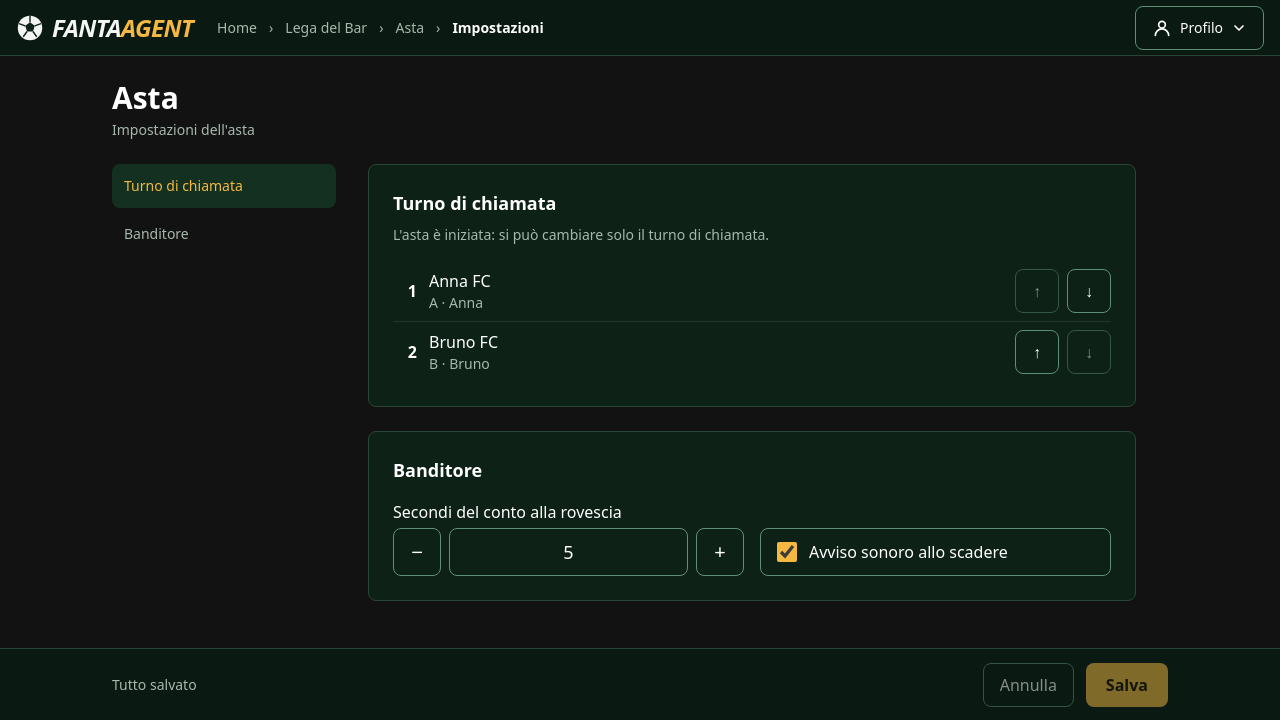
AuctionSettingsRoute › se una delle due scritture fallisce, la barra dice quale
Click the button named "Sposta giù Anna FC".
click(1089, 291)  # box x1=1067 y1=269 x2=1111 y2=313
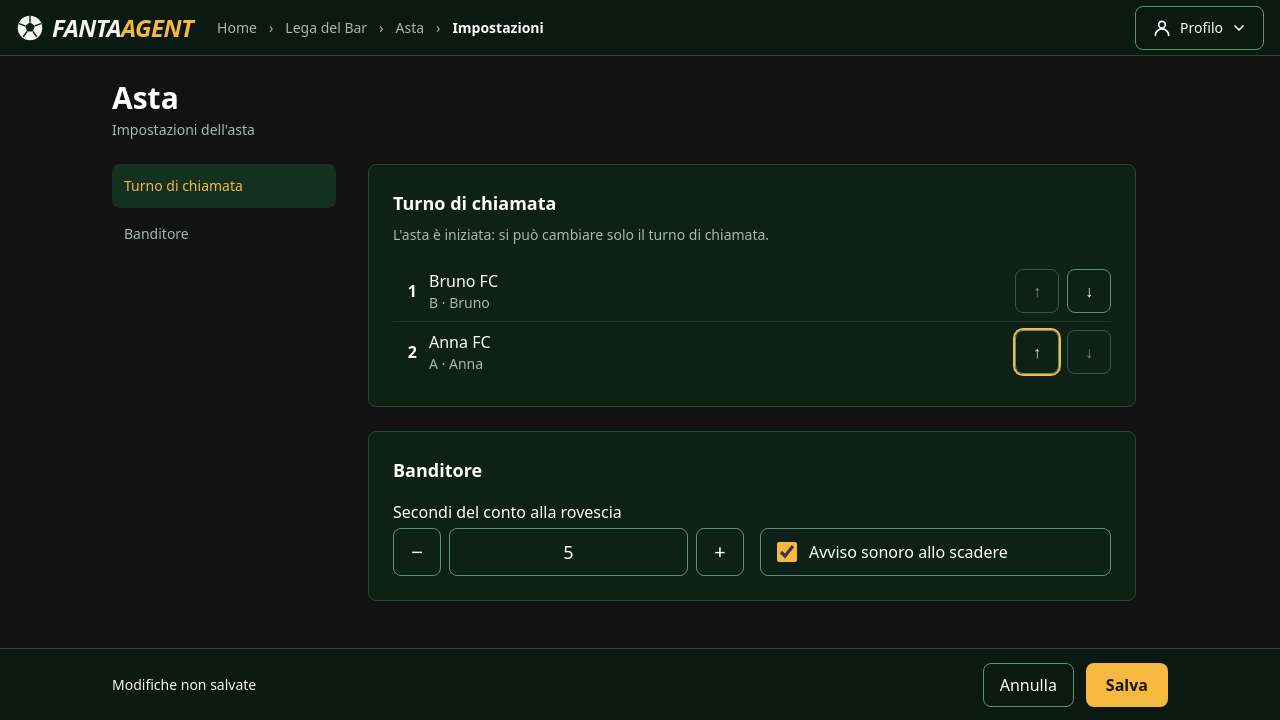
Click the button named "Un secondo in più".
click(720, 552)  # box x1=696 y1=528 x2=744 y2=576
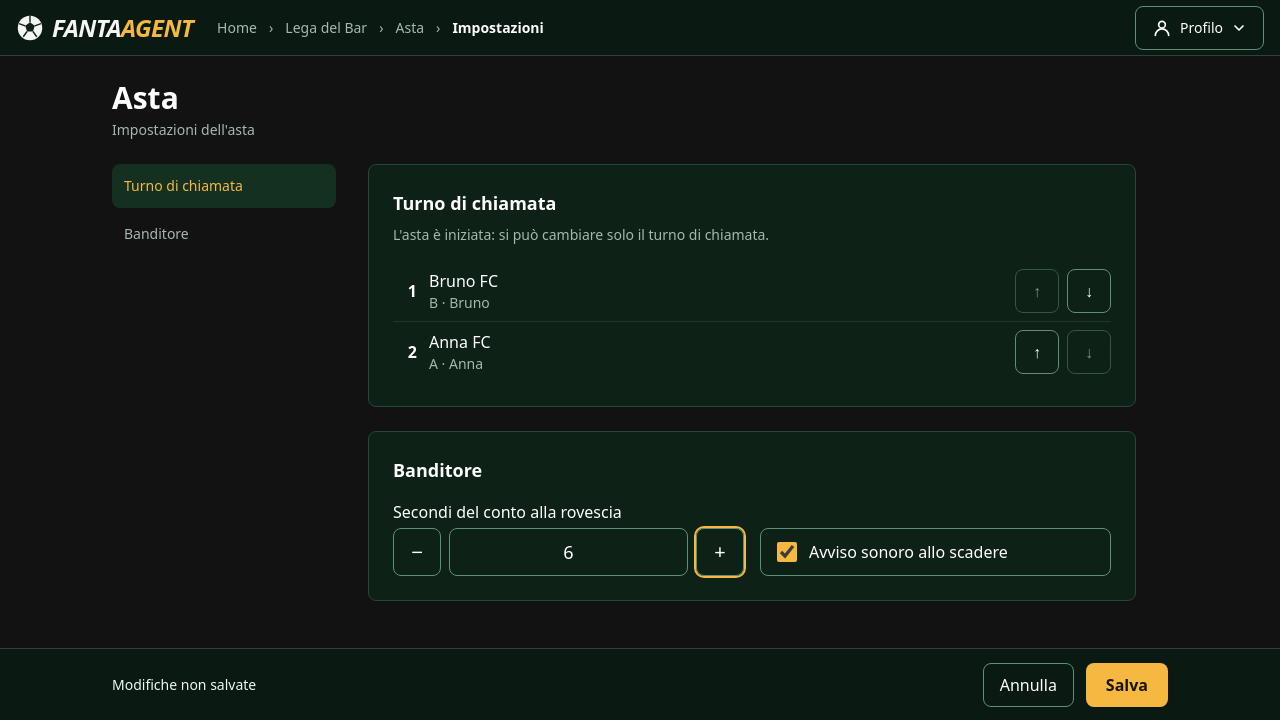
Click the button "Salva".
click(1127, 684)  # box x1=1086 y1=662 x2=1168 y2=706
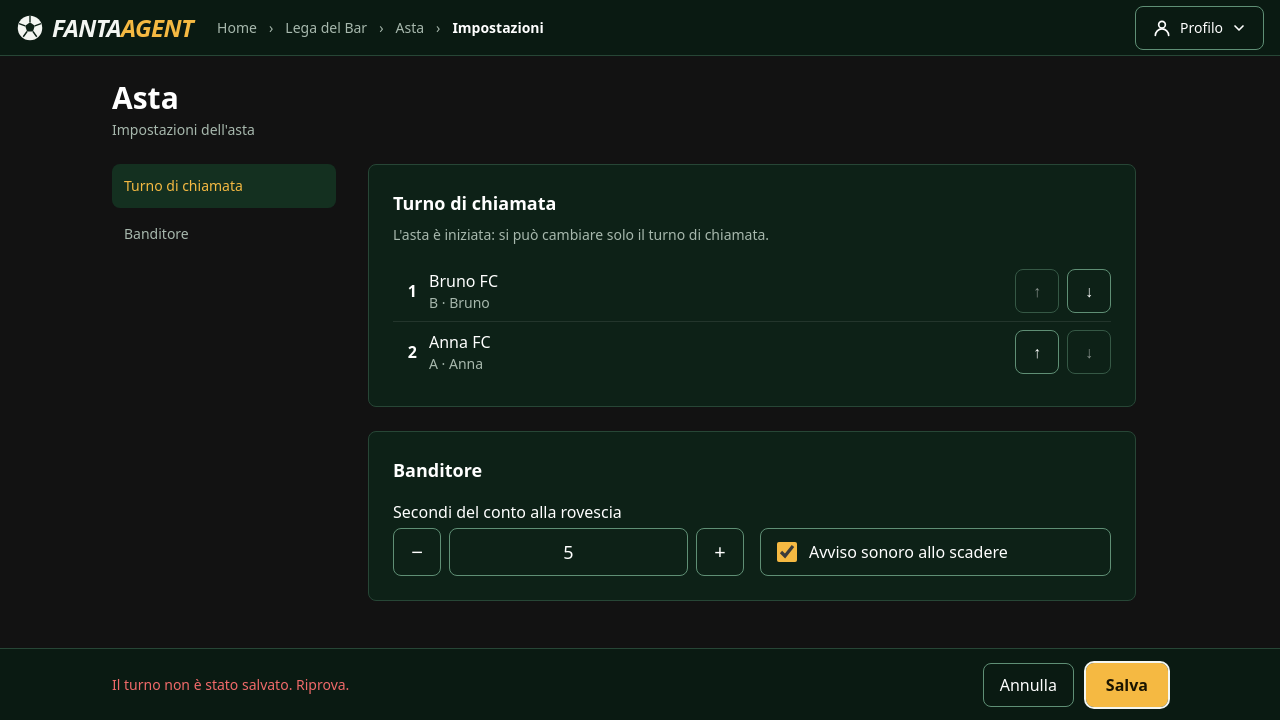
Expected: the button "Salva" is enabled, x1=1086 y1=662 x2=1168 y2=706
Expected: the message reads "Il turno non è stato salvato. Riprova.", x1=112 y1=675 x2=349 y2=694
Expected: the number of messages is 1, x1=112 y1=675 x2=349 y2=694
